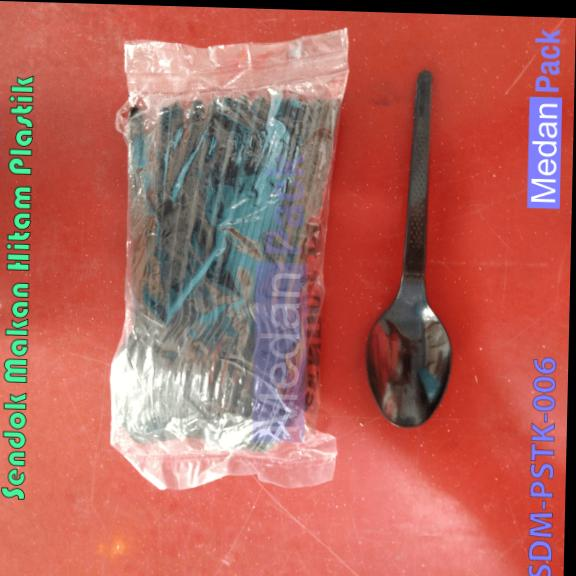Plastik: (111, 32, 348, 487), (366, 71, 451, 426)
